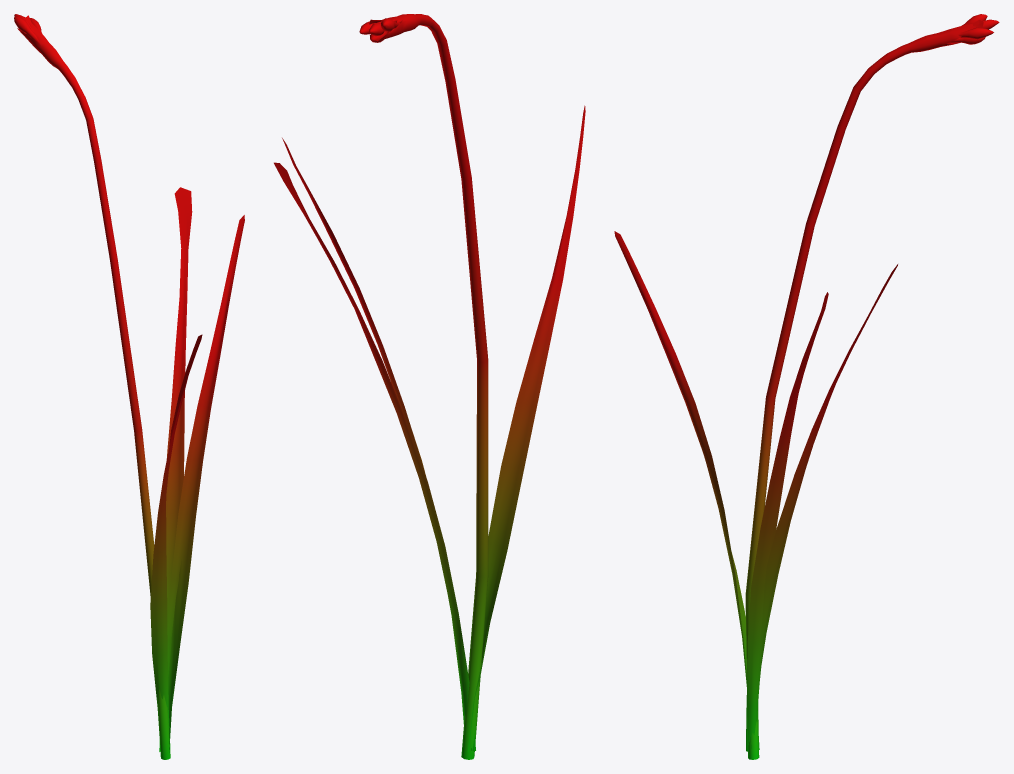
Rendered from Rush Daffodil_LOD1_Var25_wftgfjaia.fbx.
3 views of the same model, side by side, from view 1: azimuth 30°, elevation 25°; view 2: azimuth 150°, elevation 25°; view 3: azimuth 270°, elevation 25° (orthographic). The views are drawn at different scales.
Parts seen in each view (by area): view 1: _v07t_var25_LOD1; view 2: _v07t_var25_LOD1; view 3: _v07t_var25_LOD1.
Boxes of the visible parts, x1,y1,x2,y2 form: _v07t_var25_LOD1: (14, 14, 244, 759); _v07t_var25_LOD1: (274, 14, 585, 759); _v07t_var25_LOD1: (614, 14, 999, 759).
Size of the model in its own units: 6.22 by 25.31 by 12.23.
